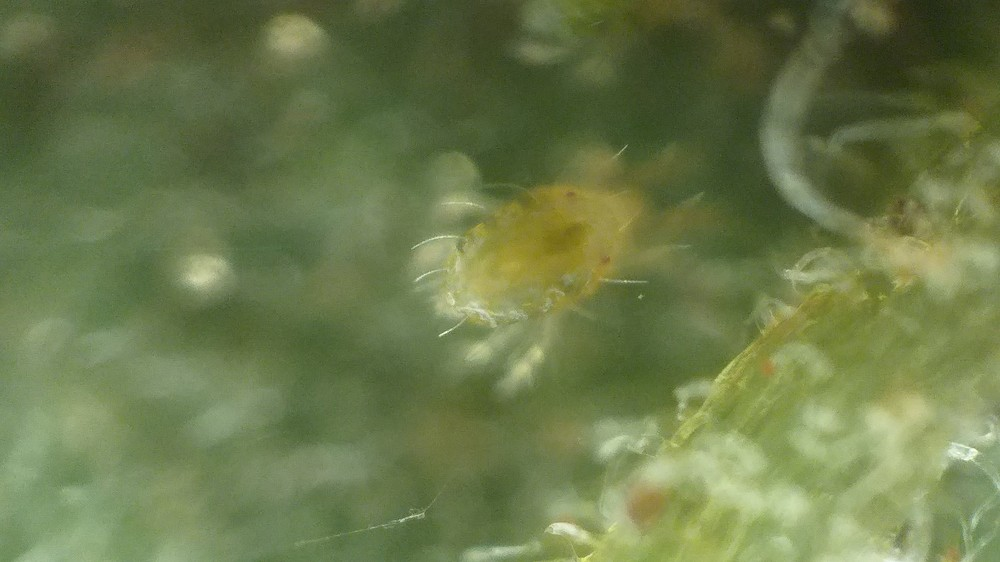Aracnido Rojo: (387, 131, 747, 379)
